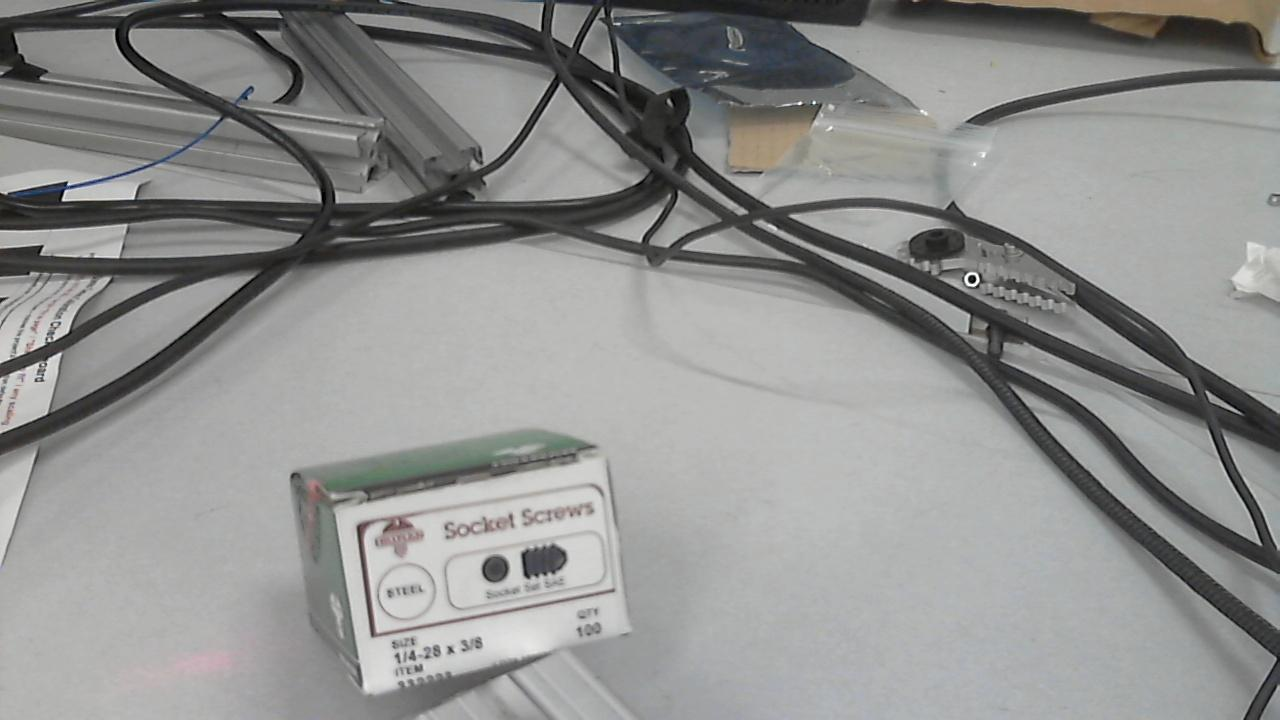Object screw packaging box - Material cardboard - Pdfname VgpKnmoKJfrS: (273, 444, 359, 560)
